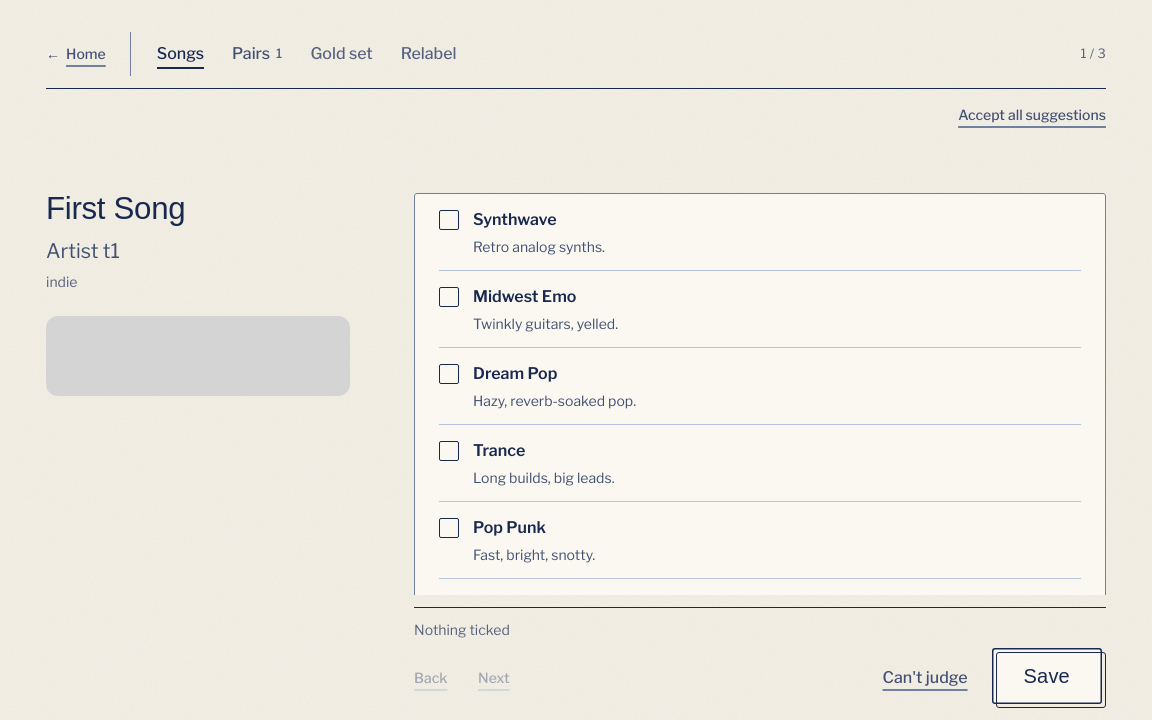
Test: LabelApp: songs › Save posts the ticked categories and advances
Click the checkbox labelled "Synthwave". click: point(449, 220)
box: [439, 210, 459, 230]
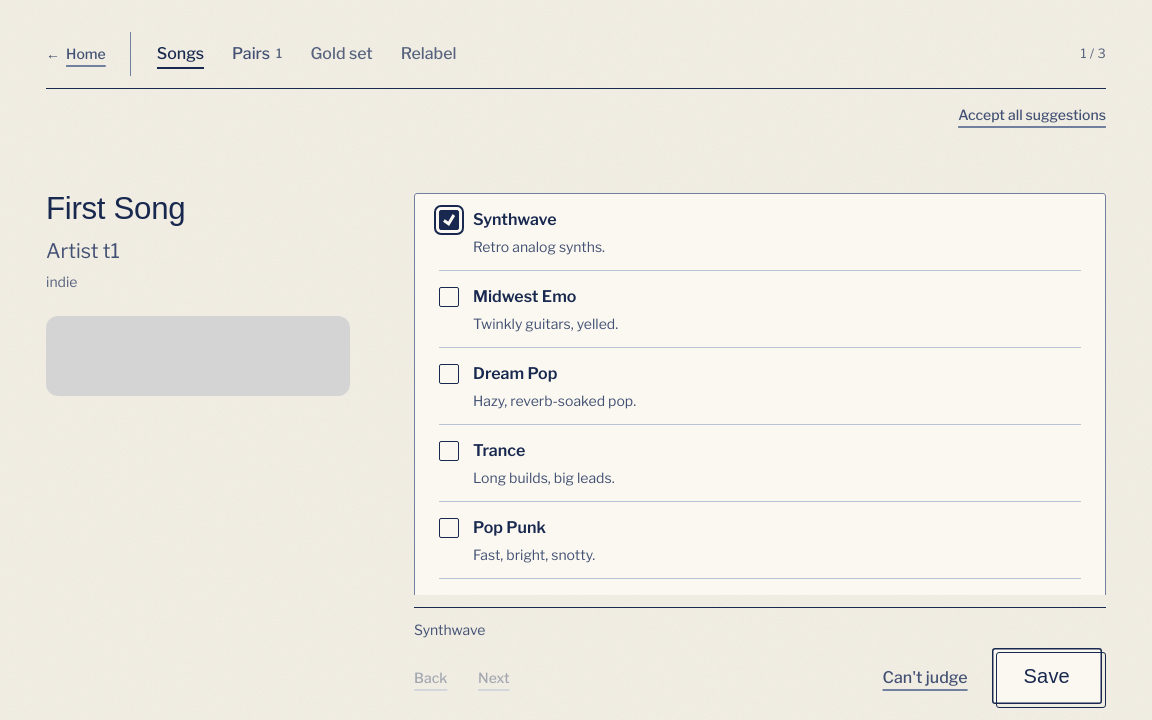
Click the checkbox labelled "Dream Pop". click: point(449, 374)
box: [439, 364, 459, 384]
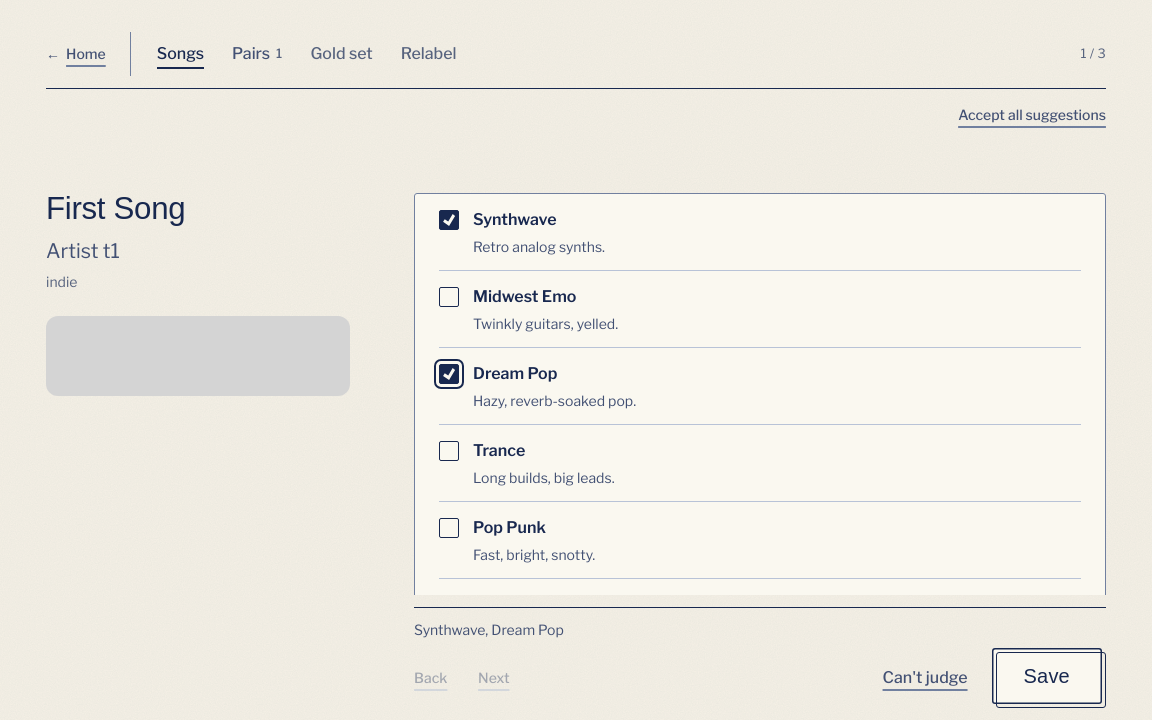
Click the button "Save". click: point(1047, 676)
box: [992, 648, 1102, 704]
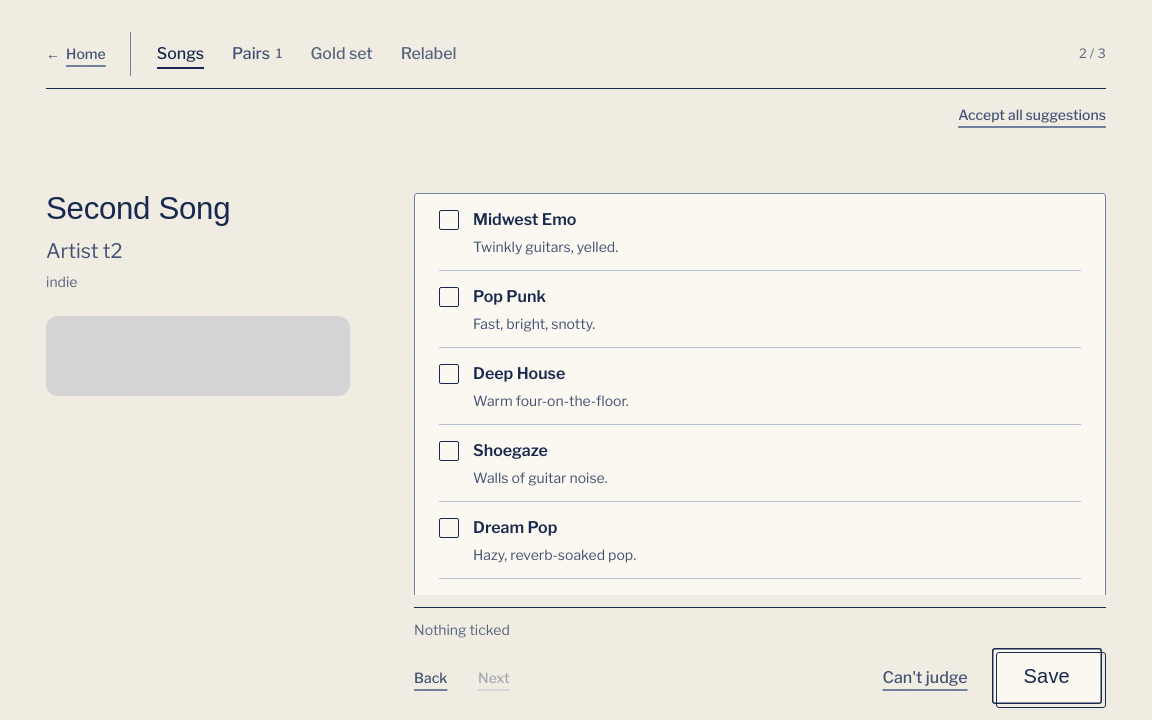
Result: the text "2 / 3" is shown at [1079, 44, 1106, 64]
